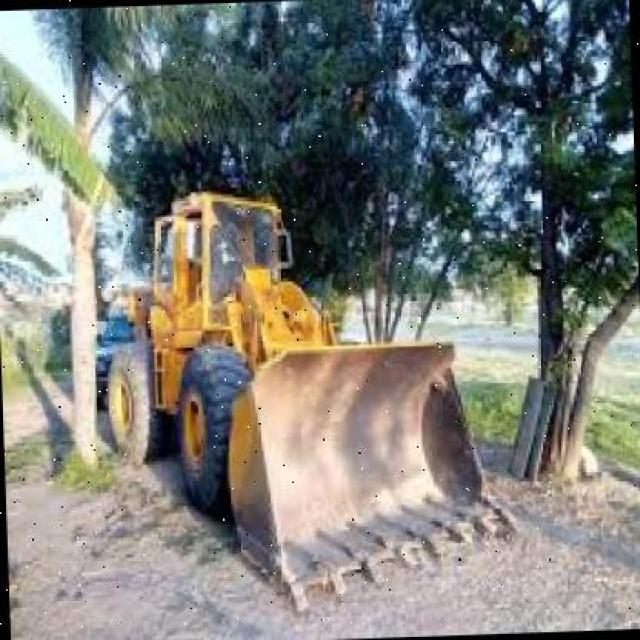buldozerpayloadergrader: (84, 180, 518, 615)
